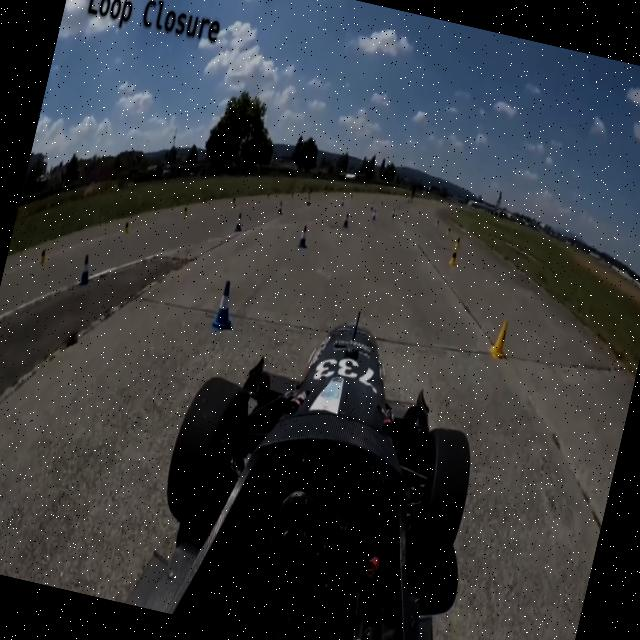blue_cone: (210, 278, 242, 334), (77, 250, 96, 288), (296, 222, 312, 250), (232, 211, 245, 234)
yellow_cone: (488, 317, 512, 361), (448, 247, 458, 266)
